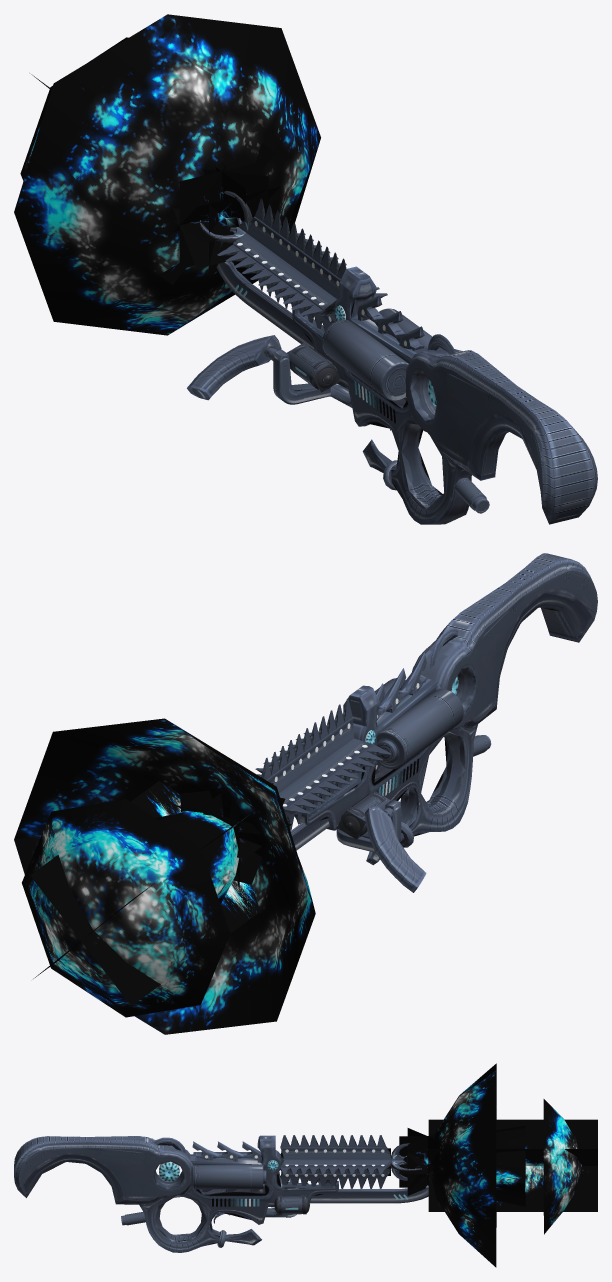
The model's file is Kralmok_AutodeskFBX2012.fbx.
3 views of the same model, one above another, from view 1: azimuth 30°, elevation 25°; view 2: azimuth 150°, elevation 25°; view 3: azimuth 270°, elevation 25° (orthographic). The views are drawn at different scales.
Parts seen in each view (by area): view 1: Kraad_MuzzleFlash3_LOD300, Kralmok_LOD300, Kralmok_LOD200, Kralmok_LOD100; view 2: Kraad_MuzzleFlash3_LOD300, Kralmok_LOD100, Kralmok_LOD200, Kralmok_LOD300, Kraad_MuzzleFlash1_LOD300; view 3: Kraad_MuzzleFlash3_LOD300, Kralmok_LOD100, Kralmok_LOD200, Kralmok_LOD300, Kraad_MuzzleFlash1_LOD300.
Part boxes in pixels (x1,y1,x2,y2): Kraad_MuzzleFlash3_LOD300: (14,14,320,335); Kralmok_LOD300: (187,167,597,524); Kralmok_LOD200: (173,161,594,522); Kralmok_LOD100: (202,193,542,521); Kraad_MuzzleFlash3_LOD300: (14,718,315,1034); Kralmok_LOD100: (255,561,595,870); Kralmok_LOD200: (181,553,597,892); Kralmok_LOD300: (174,553,597,892); Kraad_MuzzleFlash1_LOD300: (30,781,259,1005); Kraad_MuzzleFlash3_LOD300: (428,1063,581,1267); Kralmok_LOD100: (20,1135,428,1249); Kralmok_LOD200: (16,1128,435,1252); Kralmok_LOD300: (14,1133,435,1252); Kraad_MuzzleFlash1_LOD300: (428,1119,597,1211).
Size of what is drawn, in the model's own units: 25.42 by 25.43 by 71.53.
